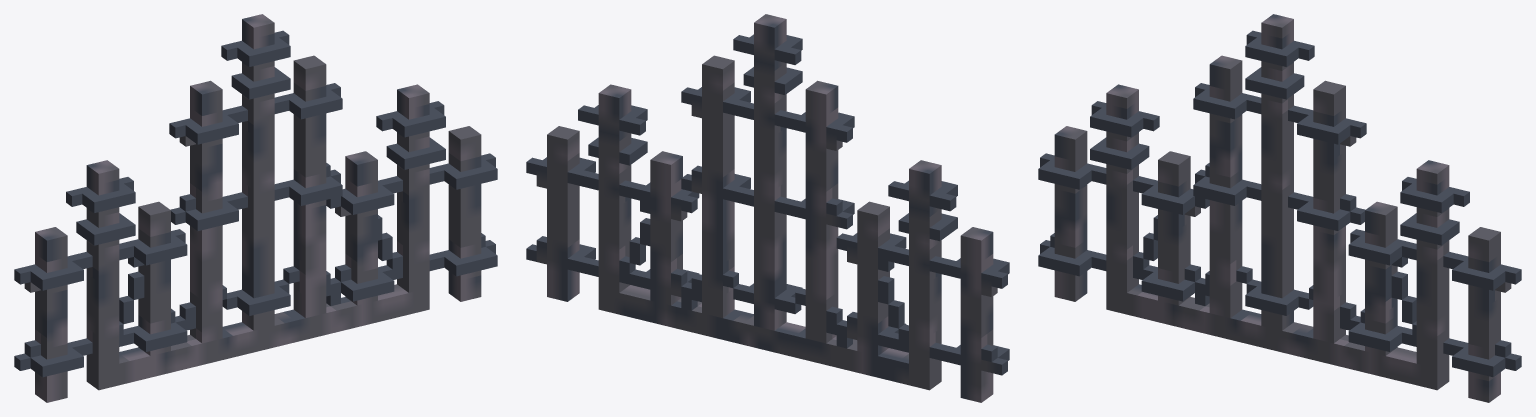
Rendered from FenceModule-5.fbx.
3 renders of one model, left to right at view 1: azimuth 30°, elevation 25°; view 2: azimuth 150°, elevation 25°; view 3: azimuth 330°, elevation 25°, orthographic.
Parts seen in each view (by area): view 1: FenceModule-5; view 2: FenceModule-5; view 3: FenceModule-5.
Part boxes in pixels (<box>): FenceModule-5: <box>14,14,497,402</box>; FenceModule-5: <box>526,14,1009,402</box>; FenceModule-5: <box>1038,14,1521,402</box>.
Size of the model in its own units: 230 by 150 by 15.
